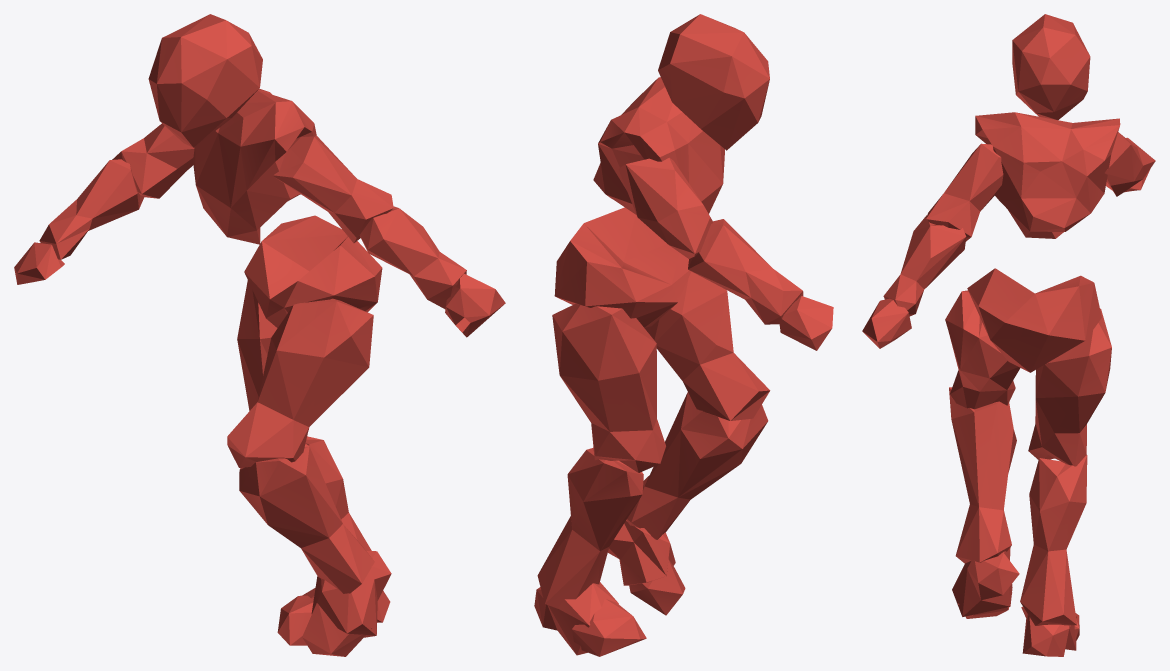
The model's file is 2dancer0201.obj.
3 views of the same model, side by side, from view 1: azimuth 30°, elevation 25°; view 2: azimuth 150°, elevation 25°; view 3: azimuth 270°, elevation 25° (orthographic). The views are drawn at different scales.
Visible parts, largest first — view 1: Beta_Surface; view 2: Beta_Surface; view 3: Beta_Surface.
Part boxes in pixels (left/top/right/bottom): Beta_Surface: left=14, top=14, right=505, bottom=656; Beta_Surface: left=534, top=14, right=833, bottom=656; Beta_Surface: left=862, top=14, right=1155, bottom=656.
Size of the model in its own units: 1.03 by 1.79 by 0.8198.
